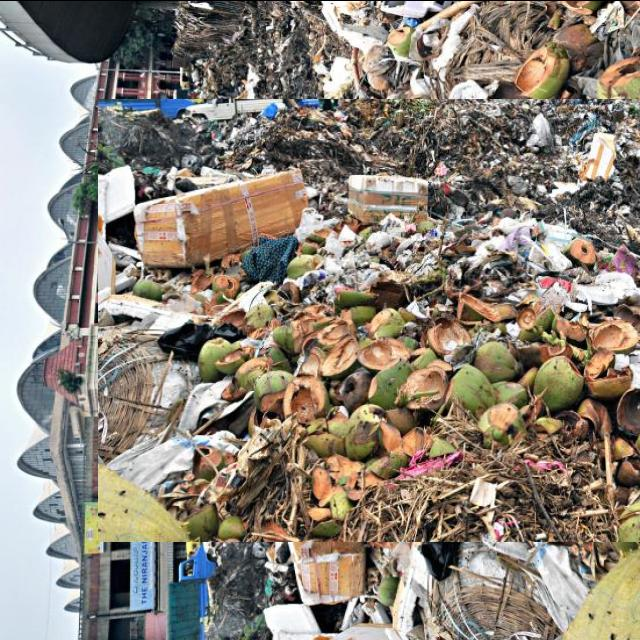garbage: (147, 49, 640, 591)
